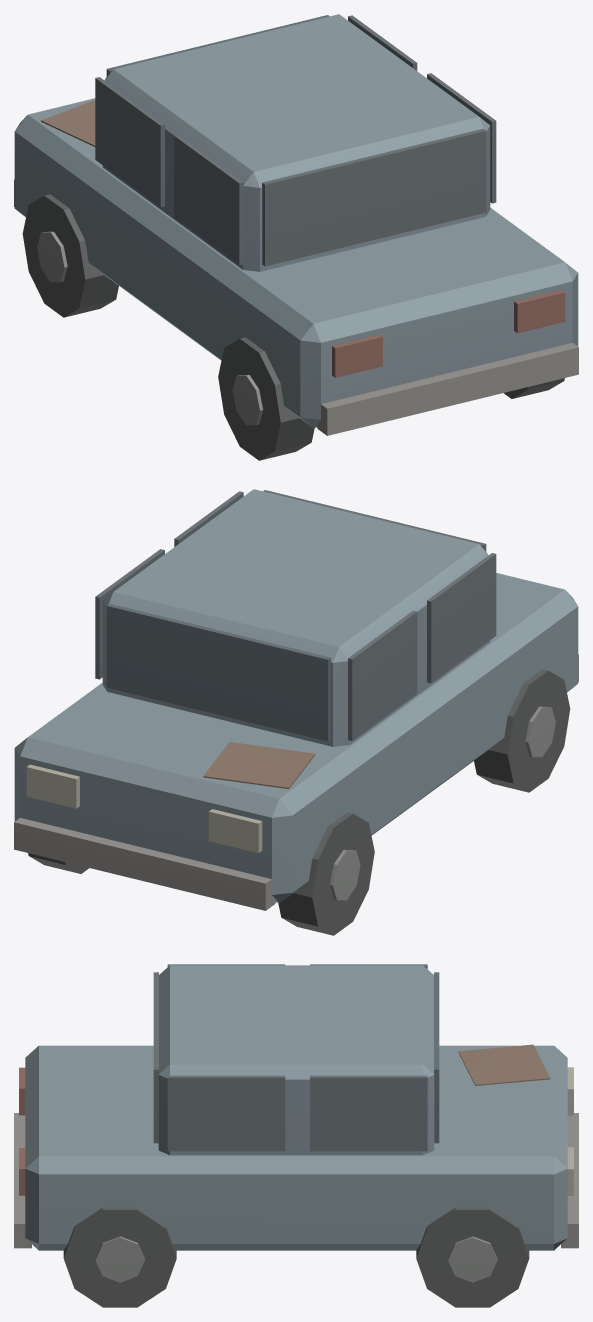
The model's file is AC_CarBlue.glb.
The picture shows the model from 3 angles, top to bottom: view 1: azimuth 30°, elevation 25°; view 2: azimuth 150°, elevation 25°; view 3: azimuth 270°, elevation 25°; orthographic projection. The views are drawn at different scales.
Parts seen in each view (by area): view 1: Body; view 2: Body; view 3: Body.
Part boxes in pixels (x1,y1,x2,y2): Body: (14, 14, 578, 460); Body: (14, 489, 578, 935); Body: (14, 964, 578, 1307).
Size of the model in its own units: 6.82 by 5.59 by 12.5.
